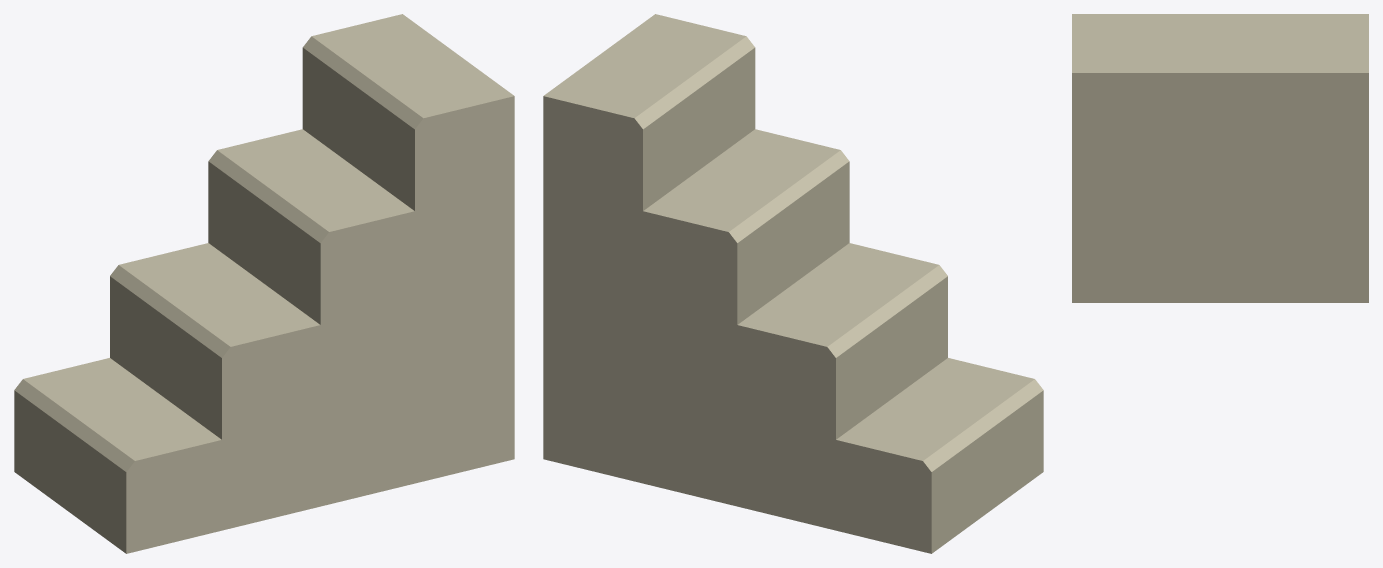
Rendered from Staircase.fbx.
3 renders of one model, left to right at view 1: azimuth 30°, elevation 25°; view 2: azimuth 150°, elevation 25°; view 3: azimuth 270°, elevation 25°, orthographic. The views are drawn at different scales.
Visible parts, largest first — view 1: StairCase; view 2: StairCase; view 3: StairCase.
Boxes of the visible parts, left/top/right/bottom form: StairCase: left=14, top=14, right=514, bottom=553; StairCase: left=543, top=14, right=1043, bottom=553; StairCase: left=1072, top=14, right=1368, bottom=302.
Bounding box in the file's own units: 2 × 1.79 × 1.
